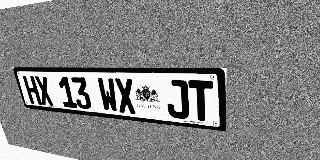1: (56, 77, 78, 108)
3: (71, 77, 92, 110)
H: (22, 76, 42, 105)
J: (165, 79, 189, 120)
T: (188, 80, 213, 122)
W: (97, 78, 119, 112)
X: (114, 78, 137, 114), (34, 76, 54, 106)
